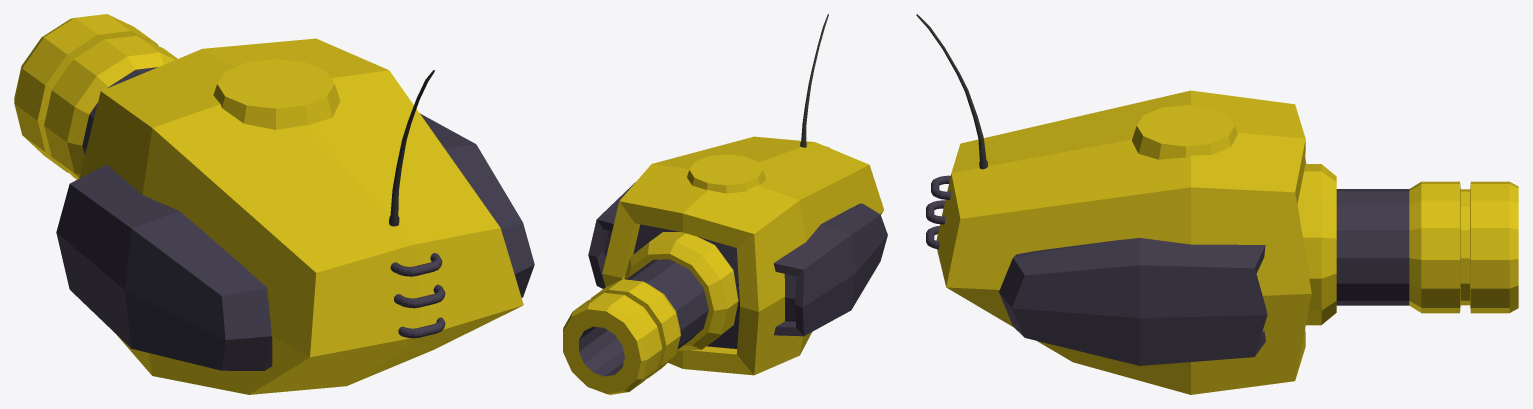
File: turret.gltf
3 renders of one model, left to right at view 1: azimuth 30°, elevation 25°; view 2: azimuth 150°, elevation 25°; view 3: azimuth 270°, elevation 25°, orthographic. The views are drawn at different scales.
Parts seen in each view (by area): view 1: Turret; view 2: Turret; view 3: Turret.
Part boxes in pixels (bbox=[...]): Turret: bbox=[14, 14, 534, 394]; Turret: bbox=[563, 14, 887, 394]; Turret: bbox=[916, 14, 1518, 394].
Size of the model in its own units: 4.27 by 4.67 by 7.44.
